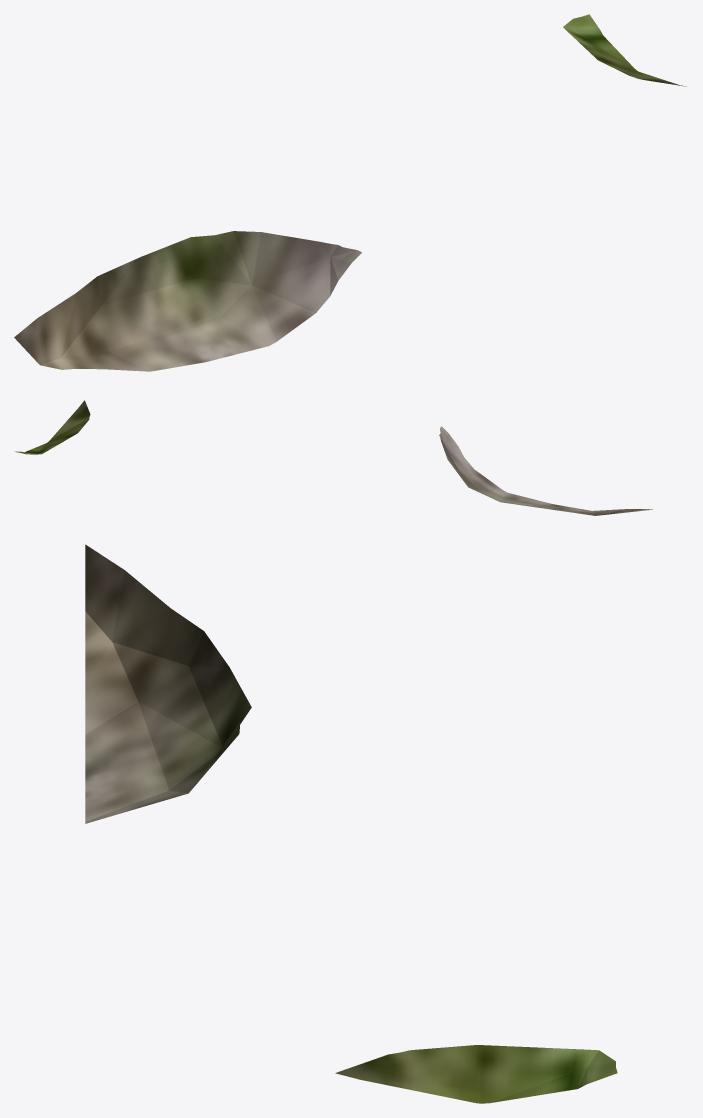
The picture shows the model from 3 angles, top to bottom: view 1: azimuth 30°, elevation 25°; view 2: azimuth 150°, elevation 25°; view 3: azimuth 270°, elevation 25°; orthographic projection. The views are drawn at different scales.
Size of the model in its own units: 1.06 by 0.095 by 0.4513.
1 material, 1 textured.
